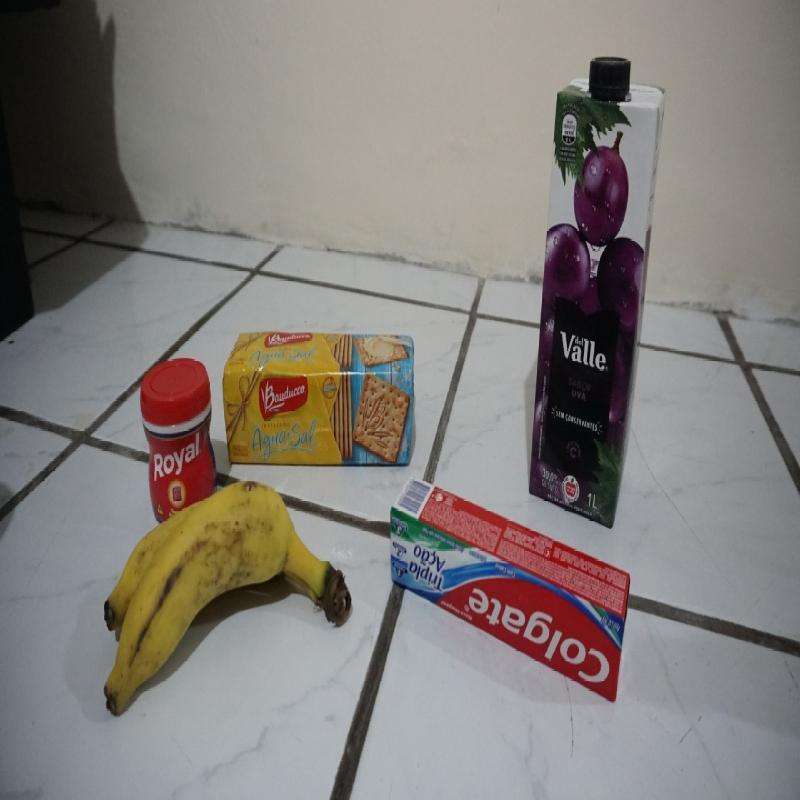Banana: (79, 484, 357, 686)
Cracker: (221, 318, 417, 469)
Toothpaste: (395, 481, 626, 709)
Yeast: (137, 356, 222, 501)
